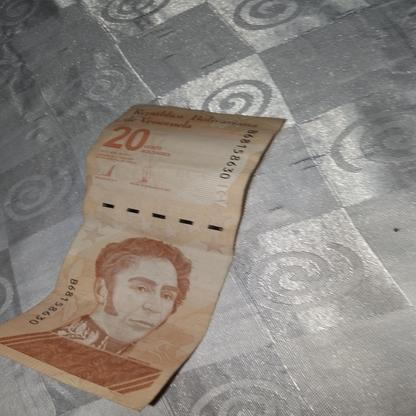twenty-front-vef: (0, 102, 287, 413)
